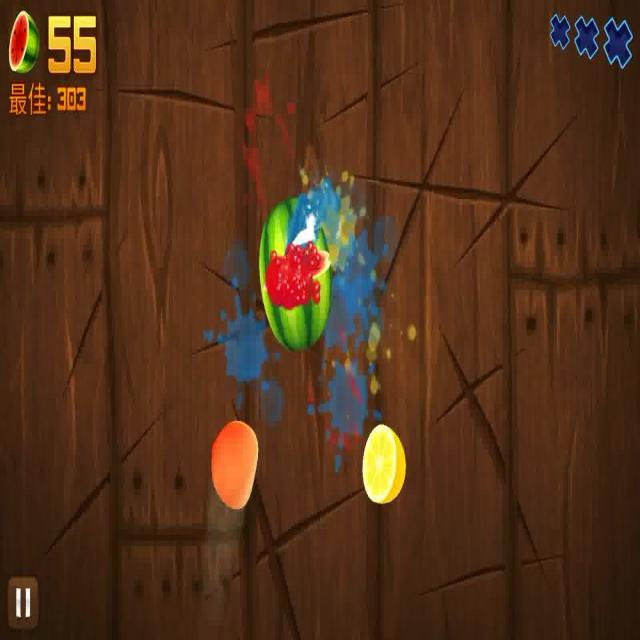fruit: (260, 197, 333, 349), (209, 419, 261, 510), (364, 423, 408, 510)
